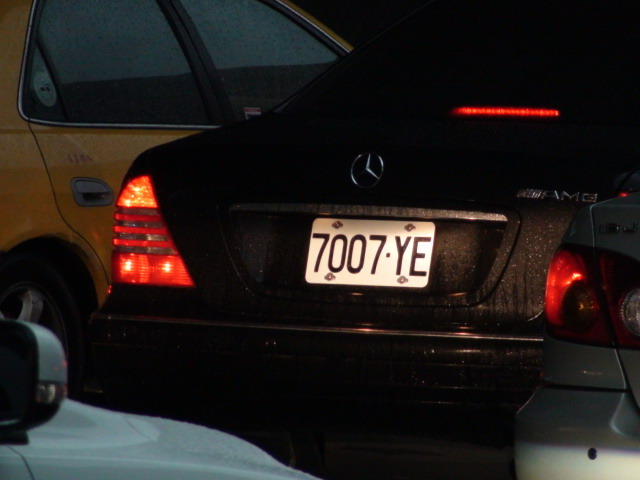plate: (304, 212, 440, 296)
